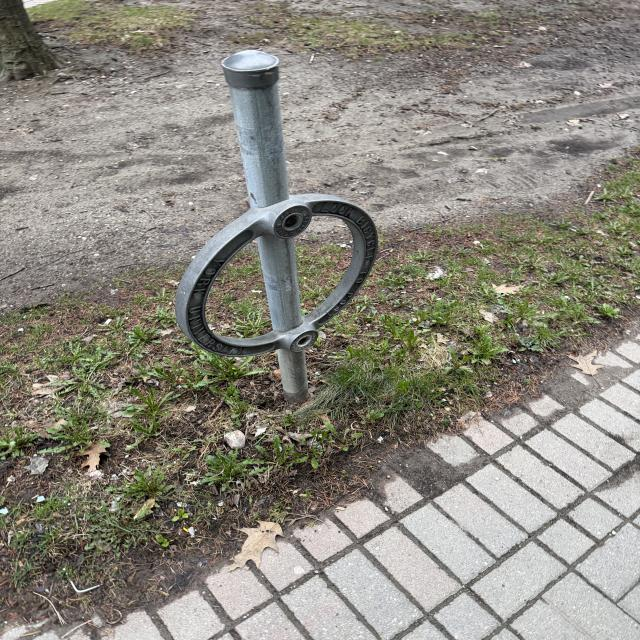Bicycle Rack: (172, 50, 379, 393)
